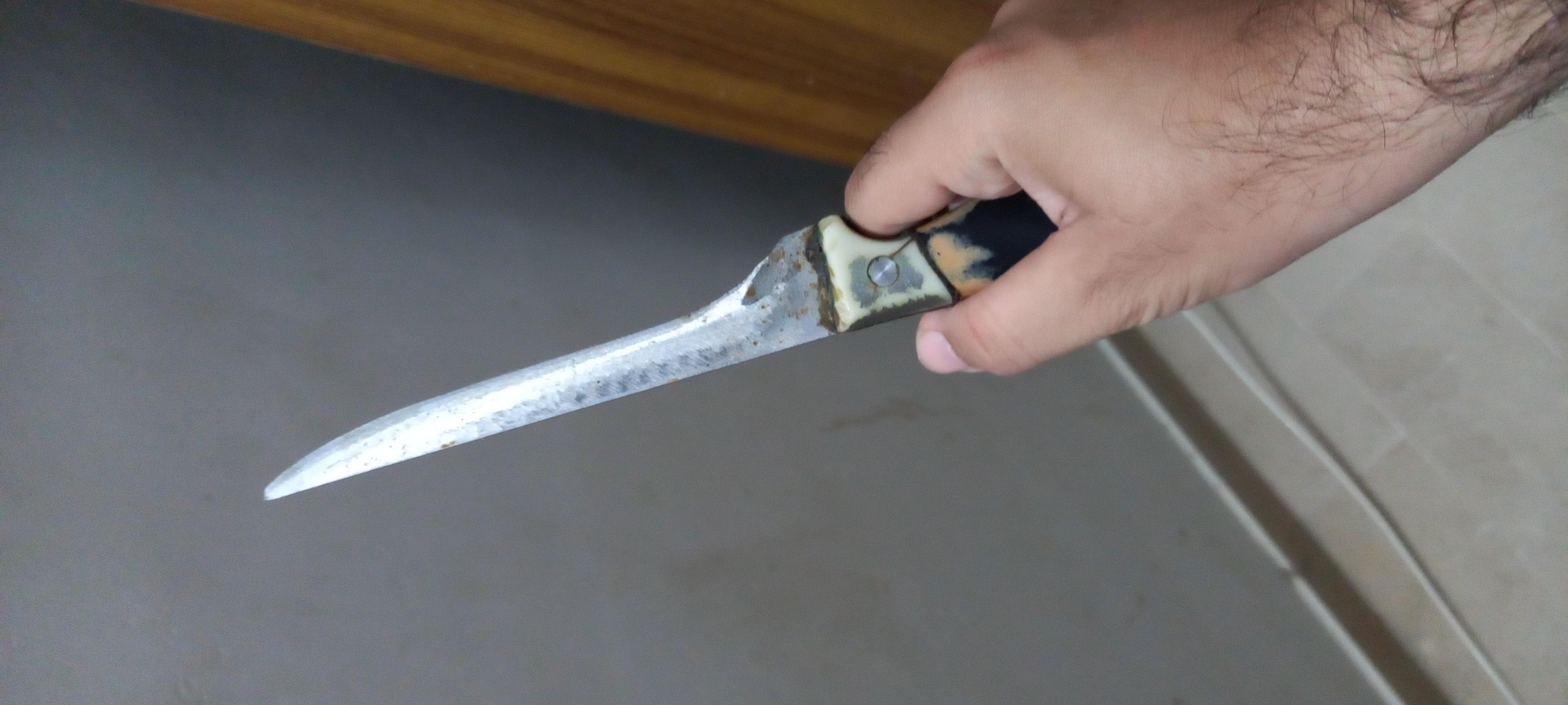knives: (375, 110, 1246, 498)
